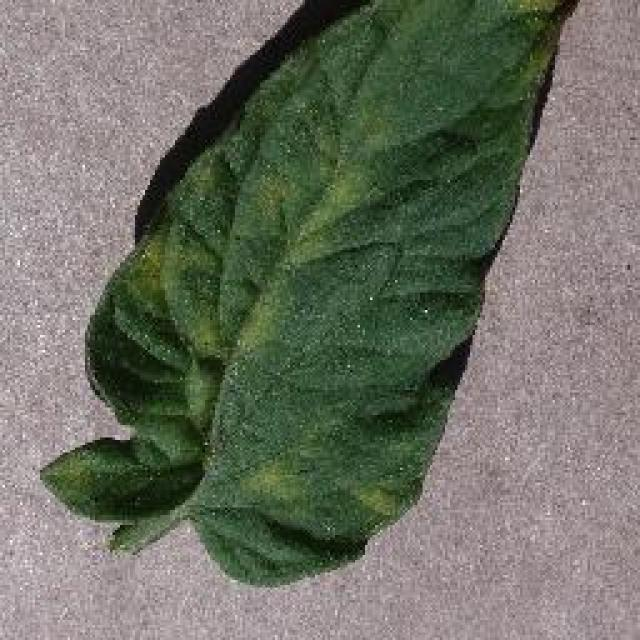Tomato mold leaf: (50, 0, 572, 585)
